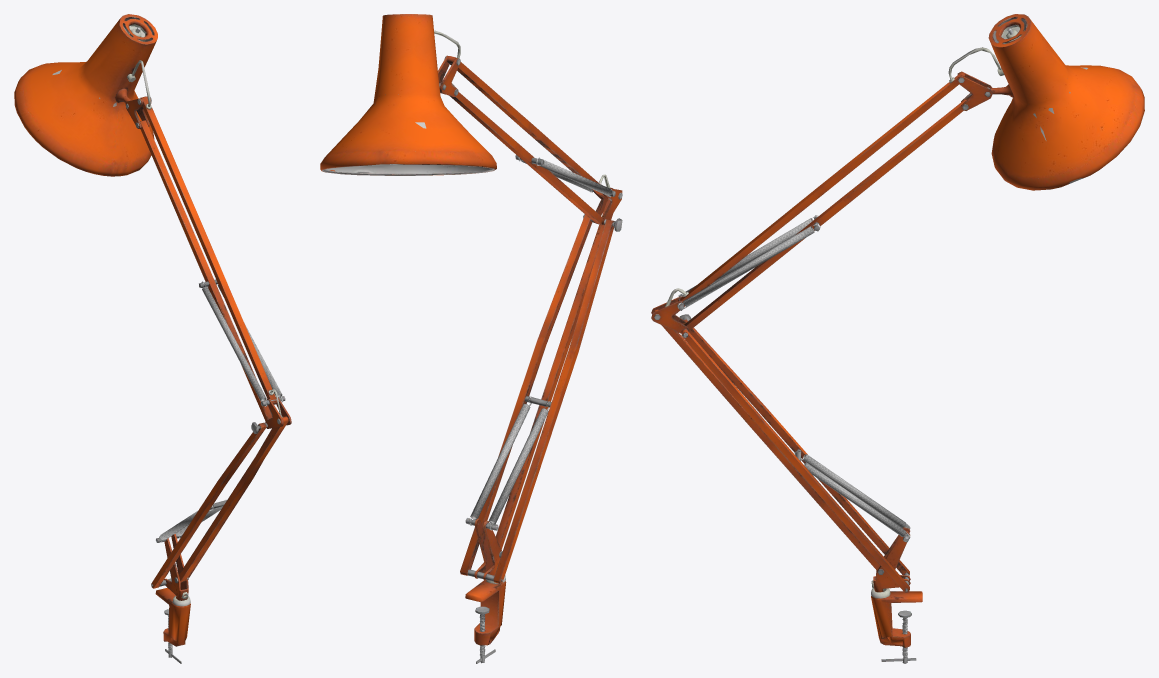
The model's file is desk_lamp_arm_01.gltf.
3 views of the same model, side by side, from view 1: azimuth 30°, elevation 25°; view 2: azimuth 150°, elevation 25°; view 3: azimuth 270°, elevation 25° (orthographic). The views are drawn at different scales.
Parts seen in each view (by area): view 1: desk_lamp_arm_01; view 2: desk_lamp_arm_01; view 3: desk_lamp_arm_01.
Boxes of the visible parts, x1=… form: desk_lamp_arm_01: x1=14, y1=14, x2=291, y2=663; desk_lamp_arm_01: x1=320, y1=14, x2=622, y2=663; desk_lamp_arm_01: x1=651, y1=14, x2=1144, y2=663.
Bounding box in the file's own units: 0.2017 × 0.8926 × 0.6133.
Materials: 2 (2 with a texture image).
